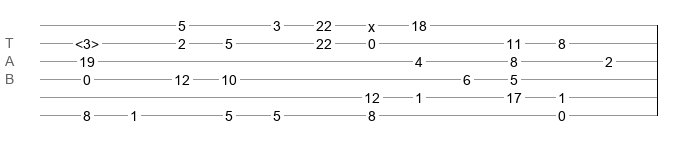0: (83, 72, 91, 82), (368, 36, 376, 46), (558, 108, 566, 118)
1: (130, 108, 138, 118), (415, 90, 423, 100), (558, 90, 566, 100)
10: (221, 72, 237, 82)
11: (506, 36, 522, 46)
12: (174, 72, 190, 82), (364, 90, 380, 100)
17: (506, 90, 522, 100)
18: (411, 18, 427, 28)
19: (79, 54, 95, 64)
2: (178, 36, 186, 46), (605, 54, 613, 64)
22: (316, 36, 332, 46), (316, 18, 332, 28)
3: (273, 18, 281, 28)
4: (415, 54, 423, 64)
5: (178, 18, 186, 28), (225, 36, 233, 46), (225, 108, 233, 118), (273, 108, 281, 118), (510, 72, 518, 82)
6: (463, 72, 471, 82)
8: (83, 108, 91, 118), (368, 108, 376, 118), (510, 54, 518, 64), (558, 36, 566, 46)
harmonic: (75, 36, 99, 46)
x: (368, 19, 375, 27)
